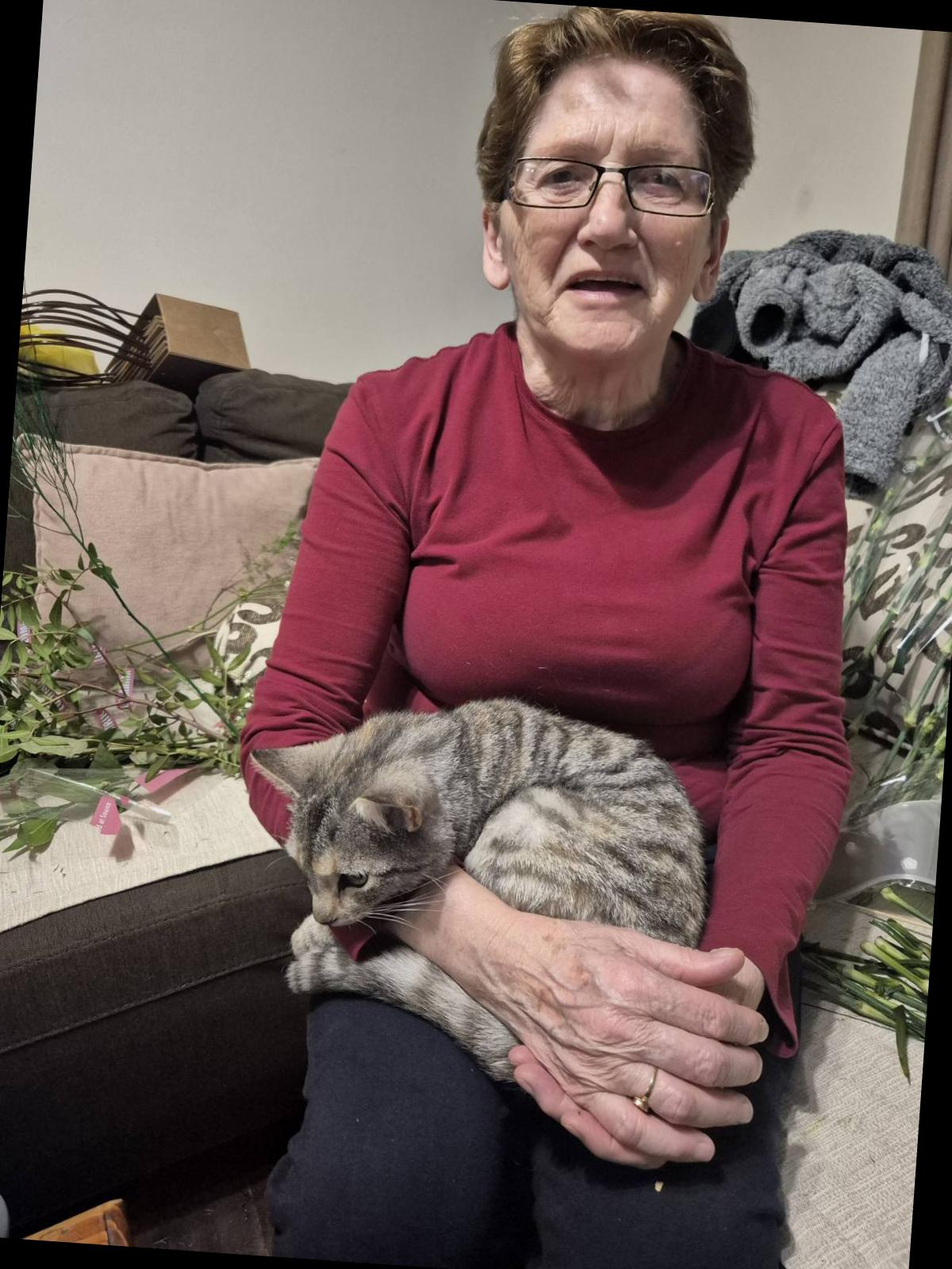macka: (221, 683, 720, 1093)
